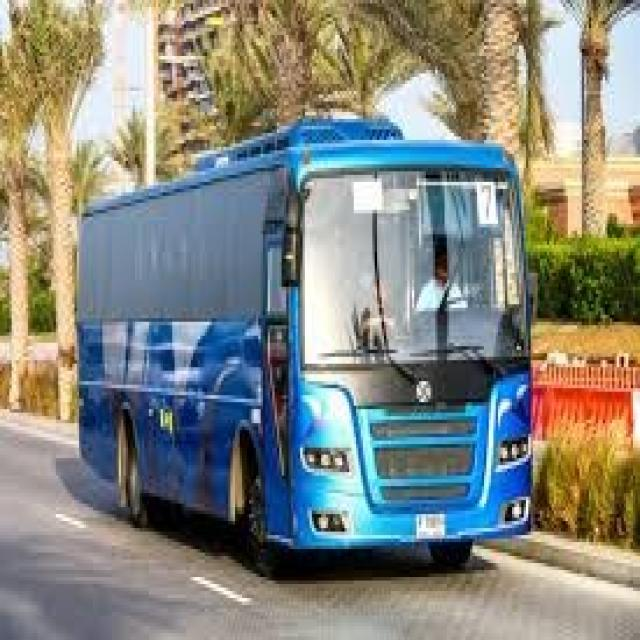bus: (55, 89, 562, 591)
